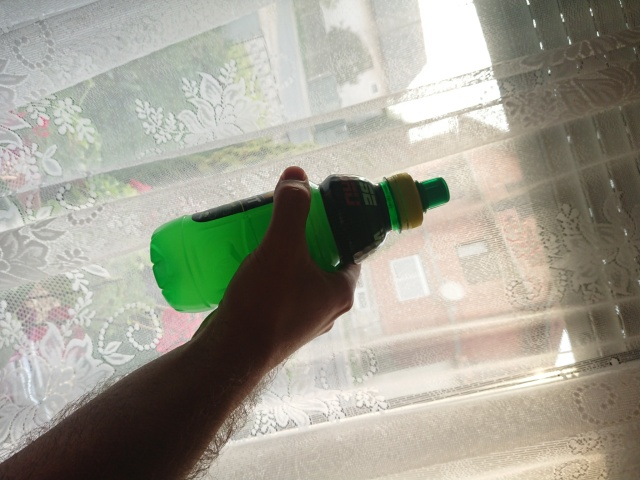Vindi Iso Sport Lemon-Grapefruit 500mL: (146, 170, 452, 316)
